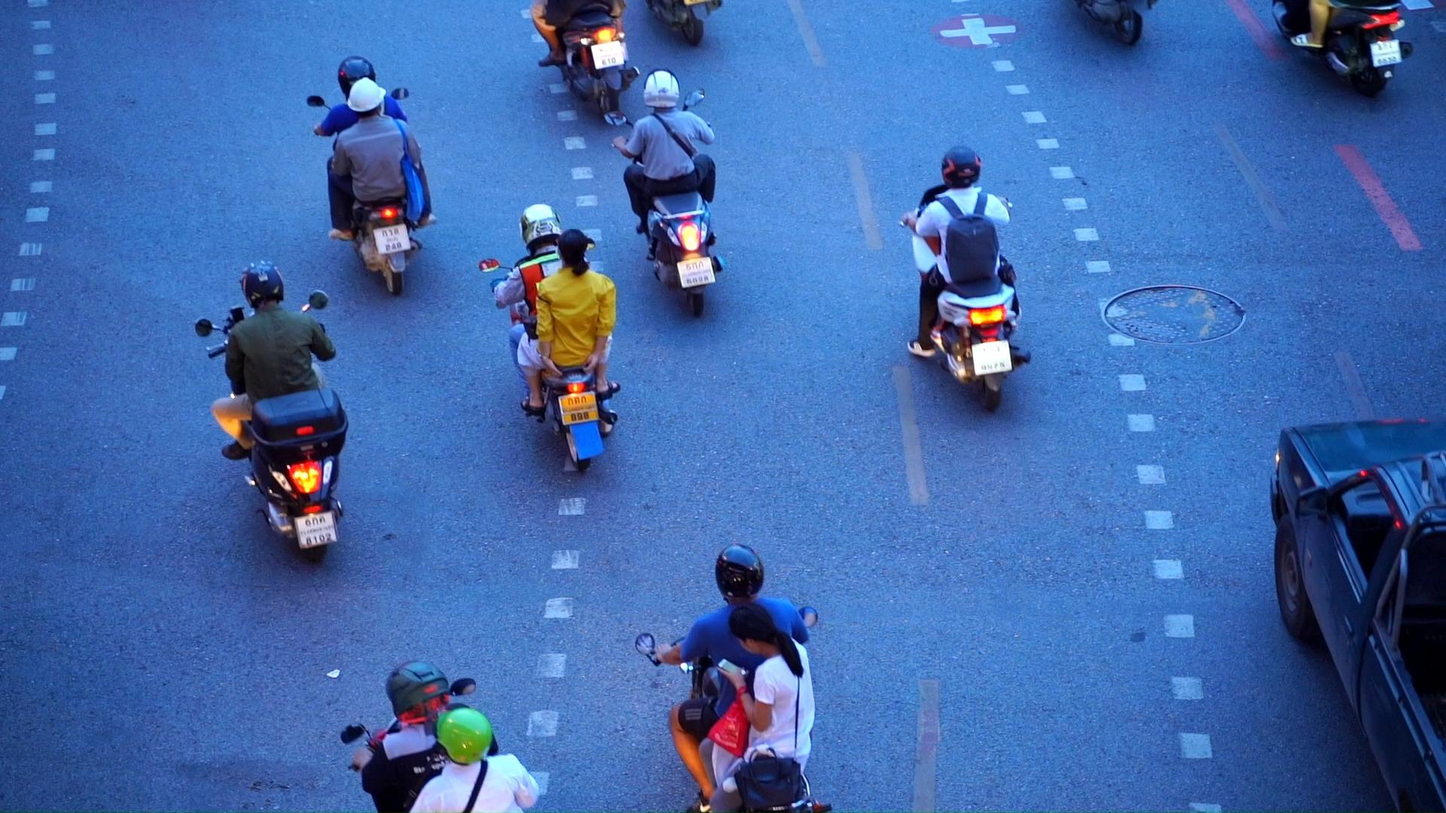driver: (637, 543, 832, 813), (195, 259, 350, 562), (479, 204, 621, 473), (898, 146, 1032, 413), (306, 56, 438, 297), (338, 657, 540, 813), (603, 67, 727, 318), (1272, 0, 1414, 96), (531, 0, 640, 117)
helmet: (385, 658, 449, 726), (425, 702, 493, 766), (715, 542, 764, 600), (240, 259, 284, 311), (519, 204, 562, 253), (338, 56, 376, 101), (942, 146, 981, 189), (347, 77, 387, 118), (643, 67, 680, 109)
no-helmet: (729, 602, 802, 656), (554, 229, 589, 277)
